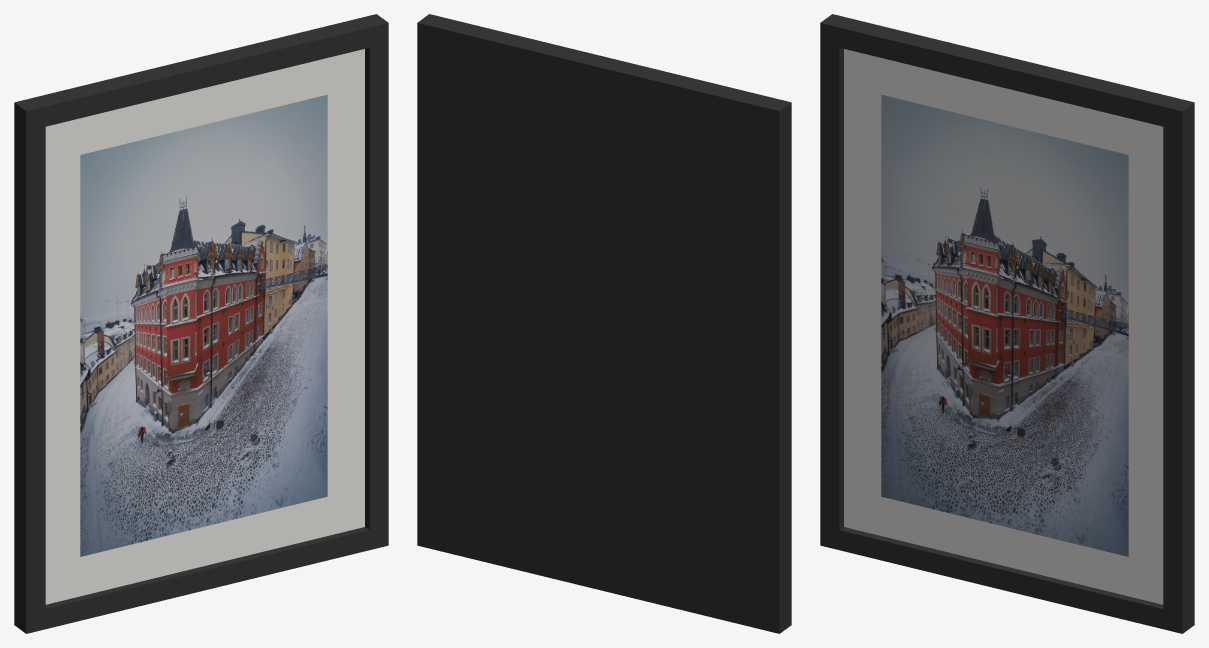
Rendered from sno-pa-soder-40.gltf.
The picture shows the model from 3 angles, left to right: view 1: azimuth 30°, elevation 25°; view 2: azimuth 150°, elevation 25°; view 3: azimuth 330°, elevation 25°; orthographic projection.
Visible parts, largest first — view 1: tavla; view 2: tavla; view 3: tavla.
Part boxes in pixels (x1,y1,x2,y2): tavla: (14,14,388,633); tavla: (417,14,791,633); tavla: (820,14,1194,633).
Size of the model in its own units: 0.3773 by 0.52 by 0.022.
Materials: 3 (1 with a texture image).
